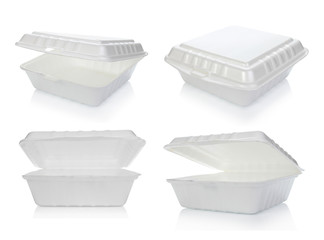styrofoam: (162, 133, 305, 216), (164, 27, 310, 107), (14, 29, 147, 109), (17, 128, 147, 209)
